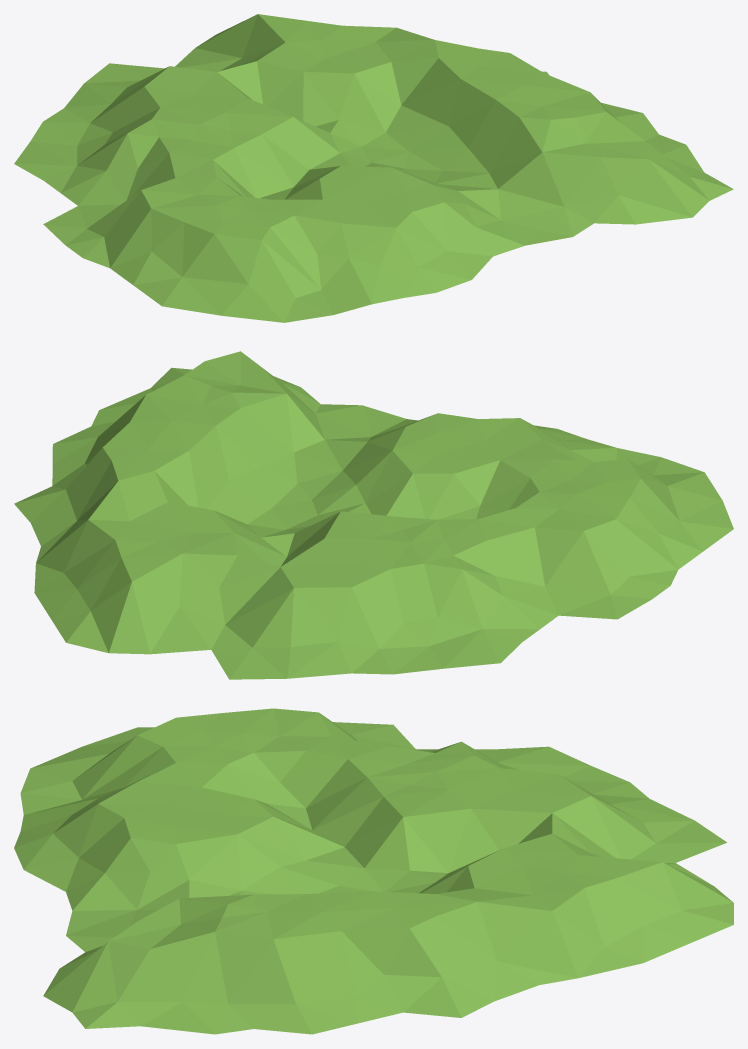
Rendered from MT_Mountain_M_b_02.fbx.
The picture shows the model from 3 angles, top to bottom: view 1: azimuth 30°, elevation 25°; view 2: azimuth 150°, elevation 25°; view 3: azimuth 270°, elevation 25°; orthographic projection. The views are drawn at different scales.
Visible parts, largest first — view 1: MT_Mountain_M_b_02; view 2: MT_Mountain_M_b_02; view 3: MT_Mountain_M_b_02.
Boxes of the visible parts, x1,y1,x2,y2 form: MT_Mountain_M_b_02: (14,14,733,322); MT_Mountain_M_b_02: (14,351,733,679); MT_Mountain_M_b_02: (14,708,733,1034).
Bounding box in the file's own units: 4453 × 395 × 4336.
